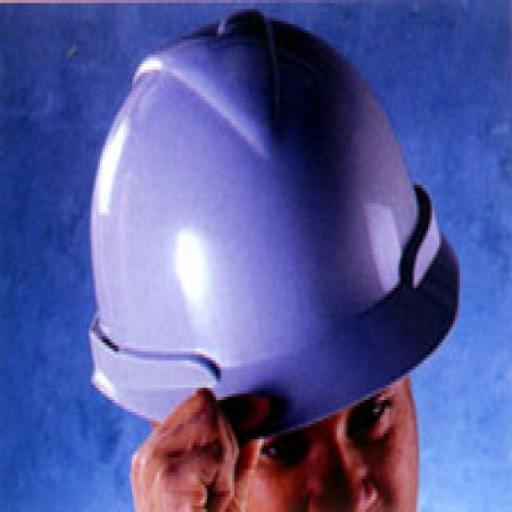helmet: (68, 16, 437, 454)
